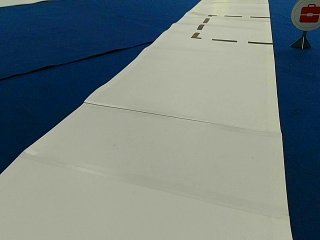company: (290, 0, 319, 30)
